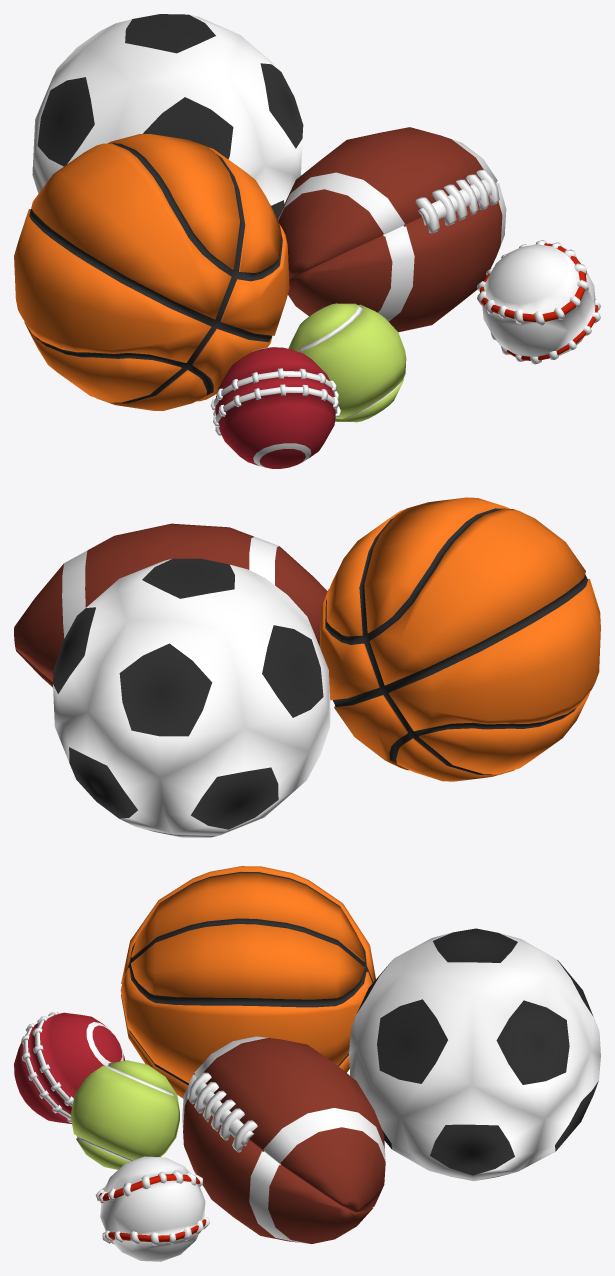
Rendered from asset.gltf.
3 views of the same model, one above another, from view 1: azimuth 30°, elevation 25°; view 2: azimuth 150°, elevation 25°; view 3: azimuth 270°, elevation 25° (orthographic). The views are drawn at different scales.
Visible parts, largest first — view 1: Sphere.001; view 2: Sphere.001; view 3: Sphere.001.
Part boxes in pixels (x1=…): Sphere.001: x1=14, y1=14, x2=600, y2=468; Sphere.001: x1=14, y1=497, x2=600, y2=837; Sphere.001: x1=14, y1=866, x2=600, y2=1261.
Bounding box in the file's own units: 4.17 × 1.97 × 4.53.
